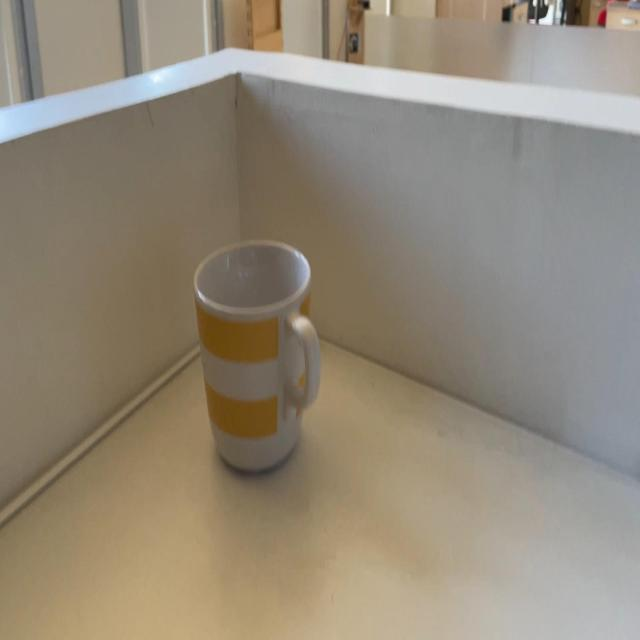cup: (190, 238, 322, 477)
